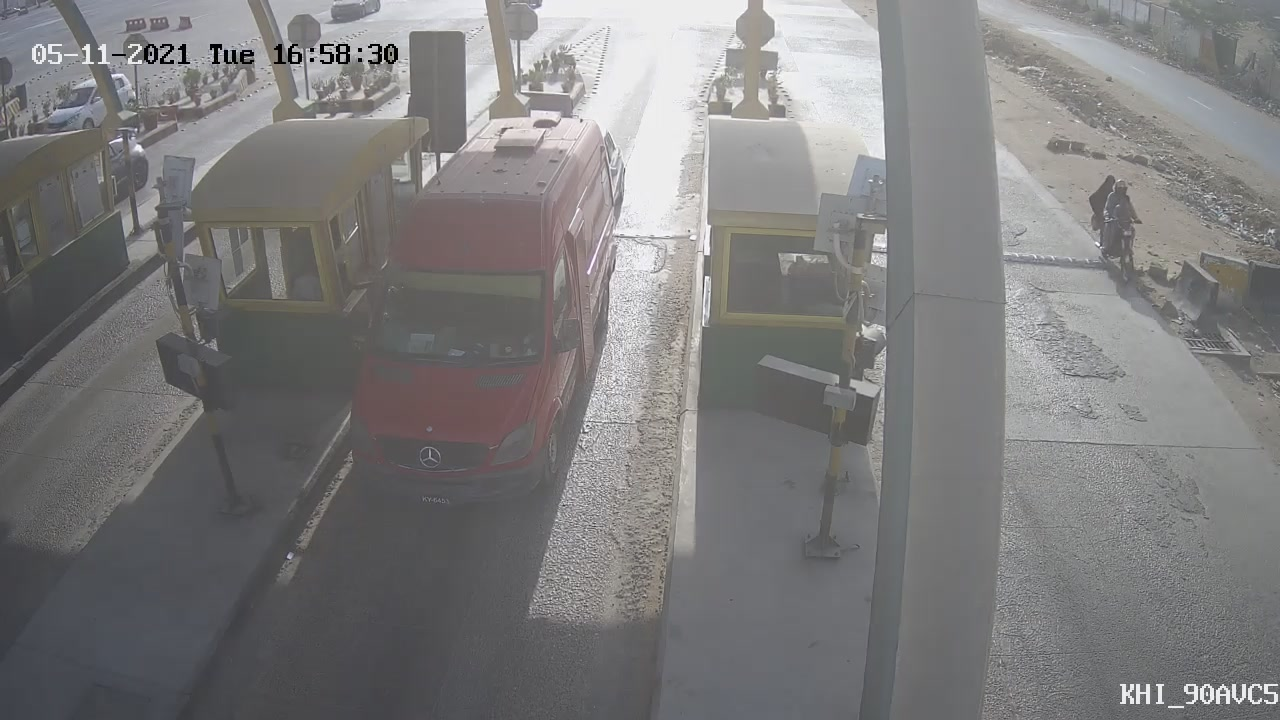F2: (317, 90, 647, 544)
